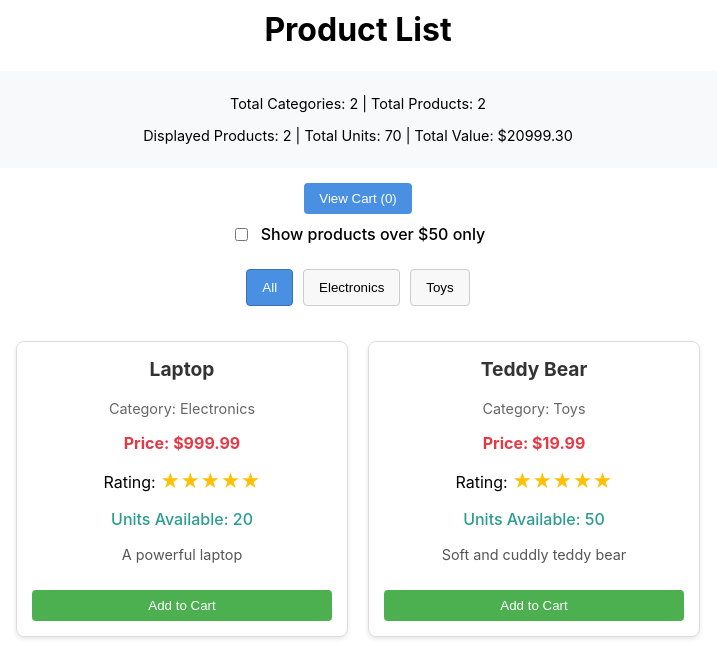
Scenario: App Component › shows all products when All button is clicked
The width and height of the screenshot is (717, 656).
# First filter to Electronics
What coordinates should you click on to do the following:
click the button "Electronics"
I would click on:
 (352, 288)
Its box is [303,269,400,306].
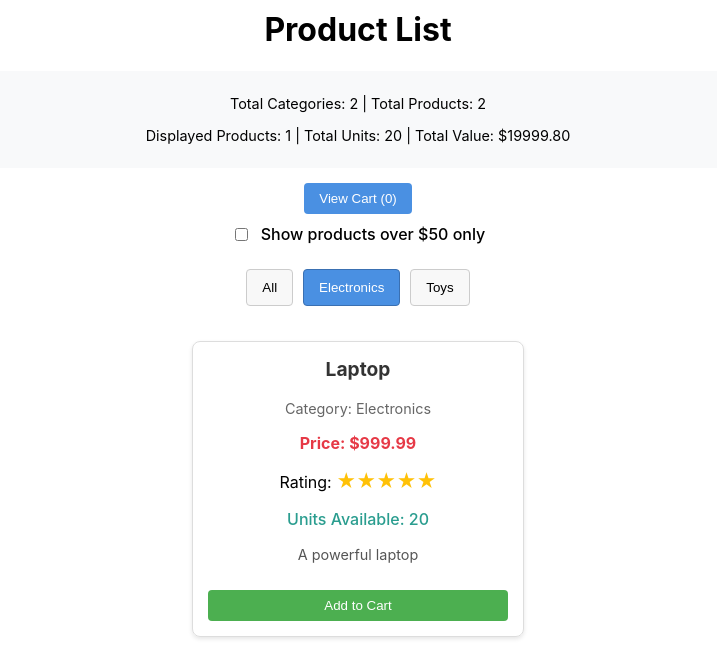
# Then click All
What coordinates should you click on to do the following:
click the button "All"
I would click on:
 (270, 288)
Its box is [246,269,293,306].
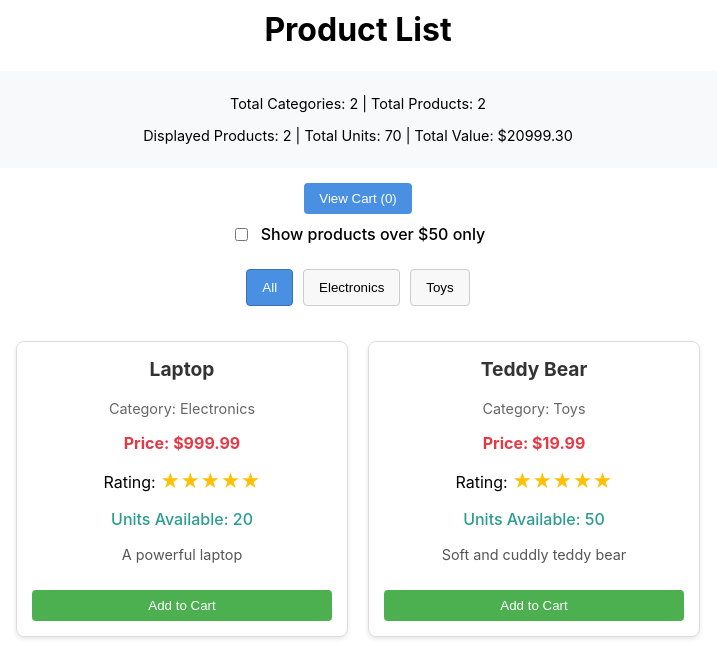
Check: the heading "Laptop" is shown, box [150,357,214,381]
Check: the heading "Teddy Bear" is shown, box [481,357,587,381]
